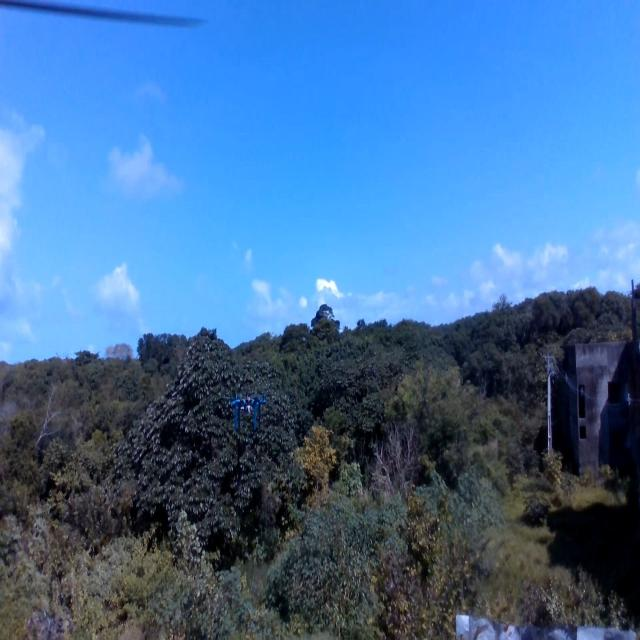-uav-: (219, 376, 273, 443)
